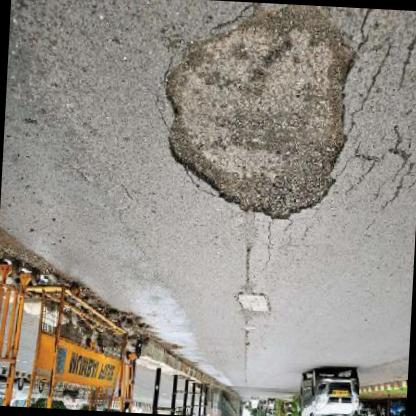pothole: (153, 0, 357, 231)
